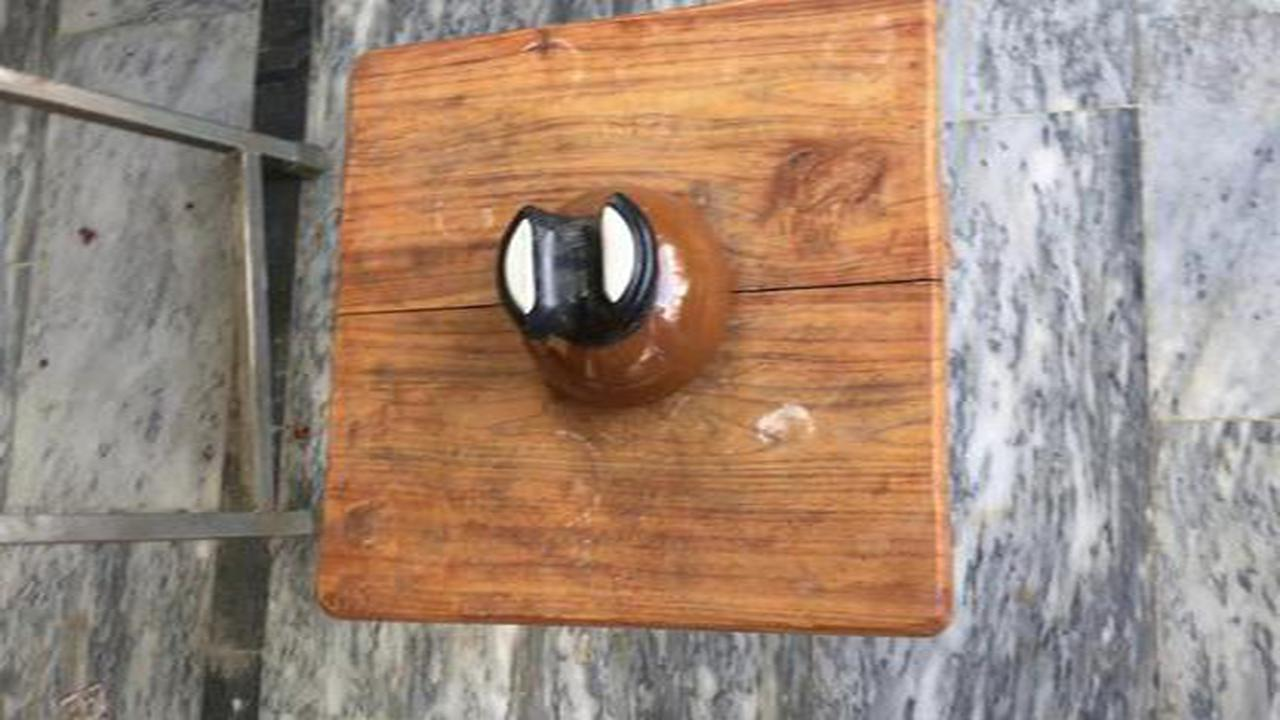insulator_pin: (474, 180, 767, 421)
